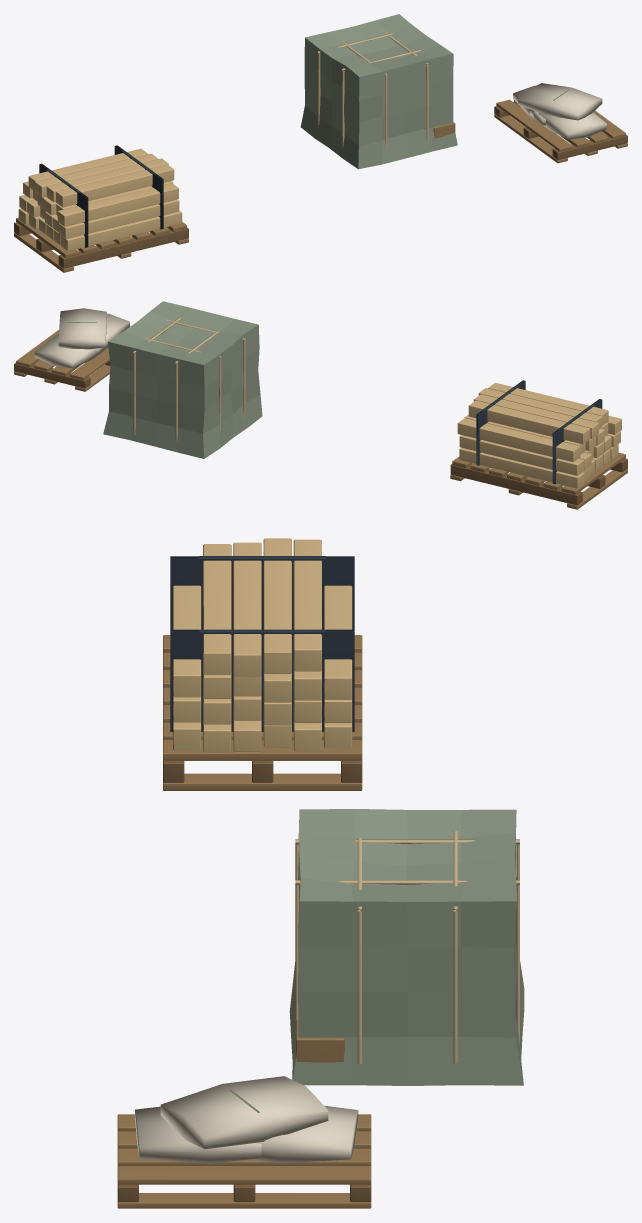
The model's file is rooftop_site.glb.
3 views of the same model, one above another, from view 1: azimuth 30°, elevation 25°; view 2: azimuth 150°, elevation 25°; view 3: azimuth 270°, elevation 25° (orthographic). The views are drawn at different scales.
Parts seen in each view (by area): view 1: Tarp, Sack2, Plank20, Plank31, Plank00, Plank10, LumberPalletRunner0, Sack0, LoosePalletDeck0, Plank33, Plank32, Plank34 (+6 smaller); view 2: Tarp, Plank25, Plank34, Sack2, Plank15, Plank05, LumberPalletRunner2, Sack1, Plank33, Plank32, Plank31, LoosePalletRunner2 (+9 smaller); view 3: Tarp, Sack2, LoosePalletDeck3, Strap+0, Plank33, Plank32, Sack1, Plank34, Plank31, LoosePalletBase2, Sack0, Strap-0 (+7 smaller).
Part boxes in pixels (x1,y1,x2,y2): Tarp: (300, 14, 457, 169); Sack2: (518, 83, 602, 120); Plank20: (57, 183, 178, 226); Plank31: (56, 164, 174, 207); Plank00: (61, 210, 182, 251); Plank10: (58, 199, 179, 238); LumberPalletRunner0: (58, 227, 188, 268); Sack0: (530, 109, 606, 139); LoosePalletDeck0: (496, 99, 572, 151); Plank33: (35, 153, 157, 197); Plank32: (46, 158, 168, 201); Plank34: (28, 148, 147, 191); Tarp: (103, 301, 262, 458); Plank25: (457, 418, 580, 462); Plank34: (468, 400, 590, 444); Sack2: (58, 308, 106, 349); Plank15: (459, 435, 584, 475); Plank05: (459, 448, 584, 488); LumberPalletRunner2: (450, 464, 582, 505); Sack1: (34, 334, 112, 368); Plank33: (473, 394, 598, 438); Plank32: (478, 388, 602, 429); Plank31: (488, 382, 608, 425); LoosePalletRunner2: (14, 363, 90, 388); Tarp: (289, 809, 524, 1085); Sack2: (160, 1076, 328, 1149); LoosePalletDeck3: (117, 1166, 371, 1184); Strap+0: (170, 629, 354, 731); Plank33: (263, 538, 291, 673); Plank32: (233, 542, 261, 676); Sack1: (249, 1105, 358, 1163); Plank34: (293, 539, 321, 671); Plank31: (203, 544, 231, 674); LoosePalletBase2: (117, 1193, 371, 1208); Sack0: (135, 1106, 261, 1163); Strap-0: (170, 556, 354, 629).
Bounding box in the file's own units: 4.17 × 0.6582 × 1.33.
